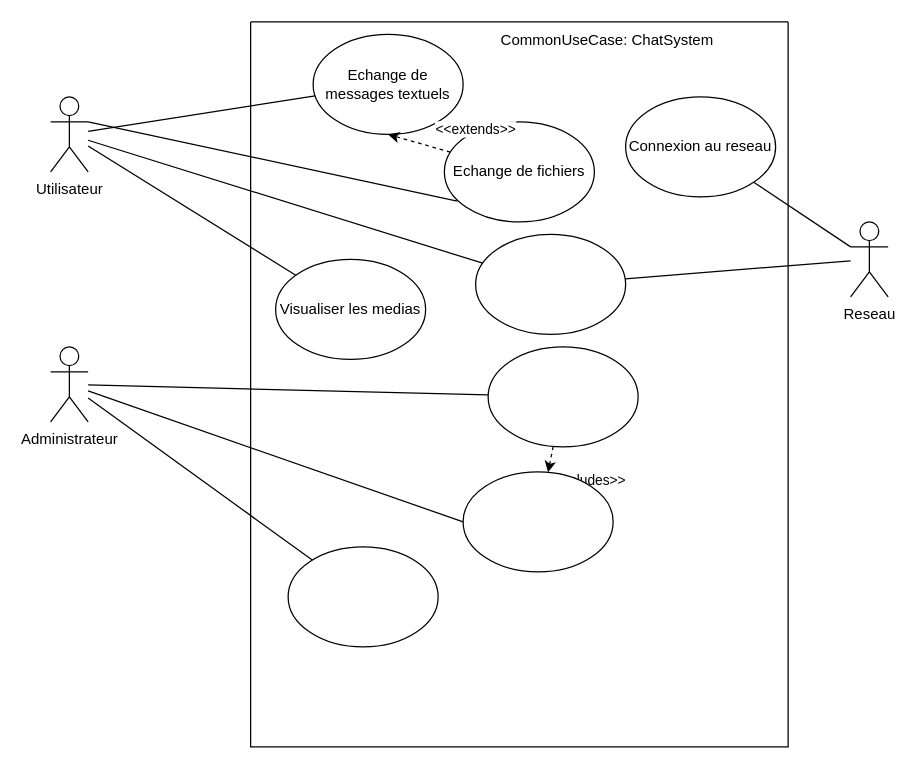
Image size: 916x769. Some labels were removed from this diagram. Each missing label, with the centre of its shape:
"Configurer l'agent" goes at point 537,521.
"Desinstaller un agent" goes at point 362,596.
"Installer un agent" goes at point 562,396.
"Montrer les autres utilisateurs connectes" goes at point 550,283.
